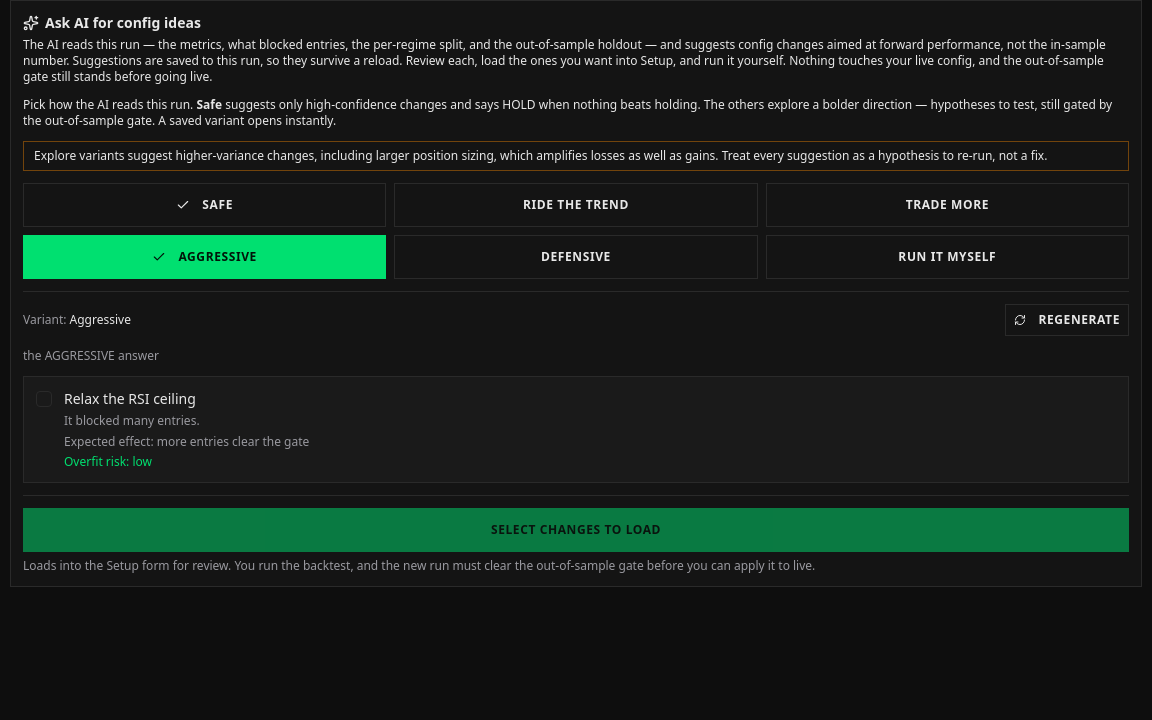
Test: BacktestLlmAdvisor › clicking a variant with a saved done row shows it without a POST
This screenshot has width=1152, height=720.
Expected: the text with test id "backtest-llm-summary" shows "AGGRESSIVE", [23,347,159,364]
Click the button with test id "backtest-llm-ask-safe". click: {"x": 205, "y": 205}
box: [23,183,386,227]
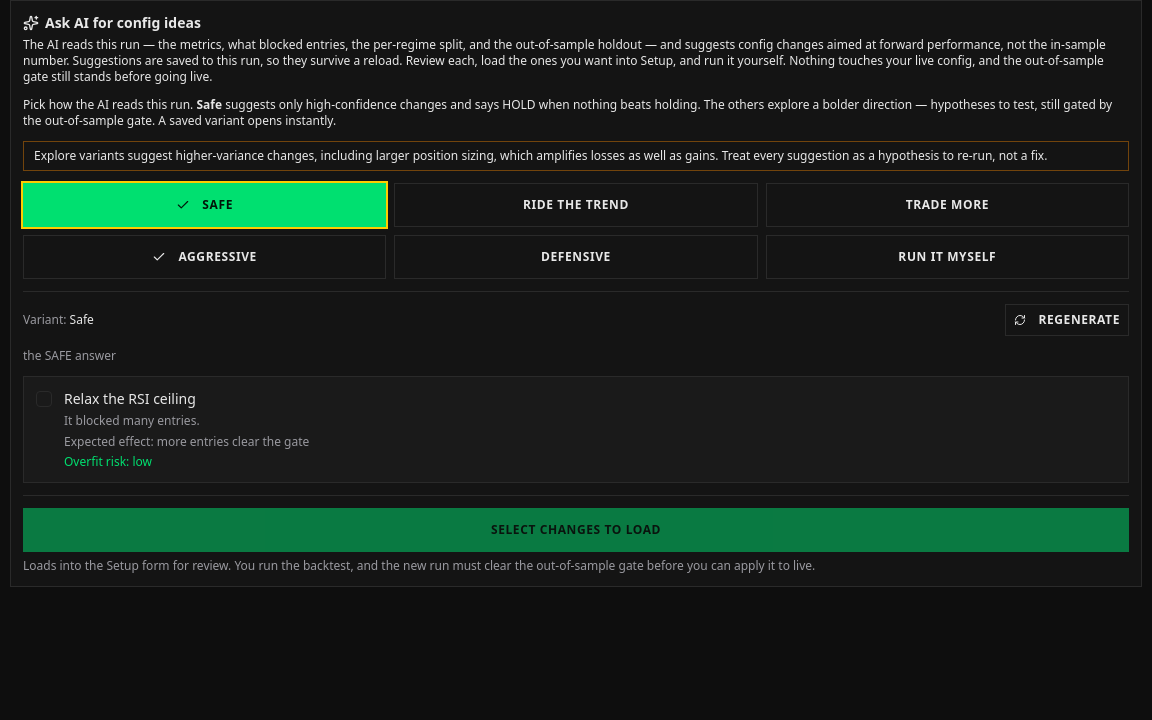
Result: the text with test id "backtest-llm-summary" shows "SAFE" at [23,347,116,364]
